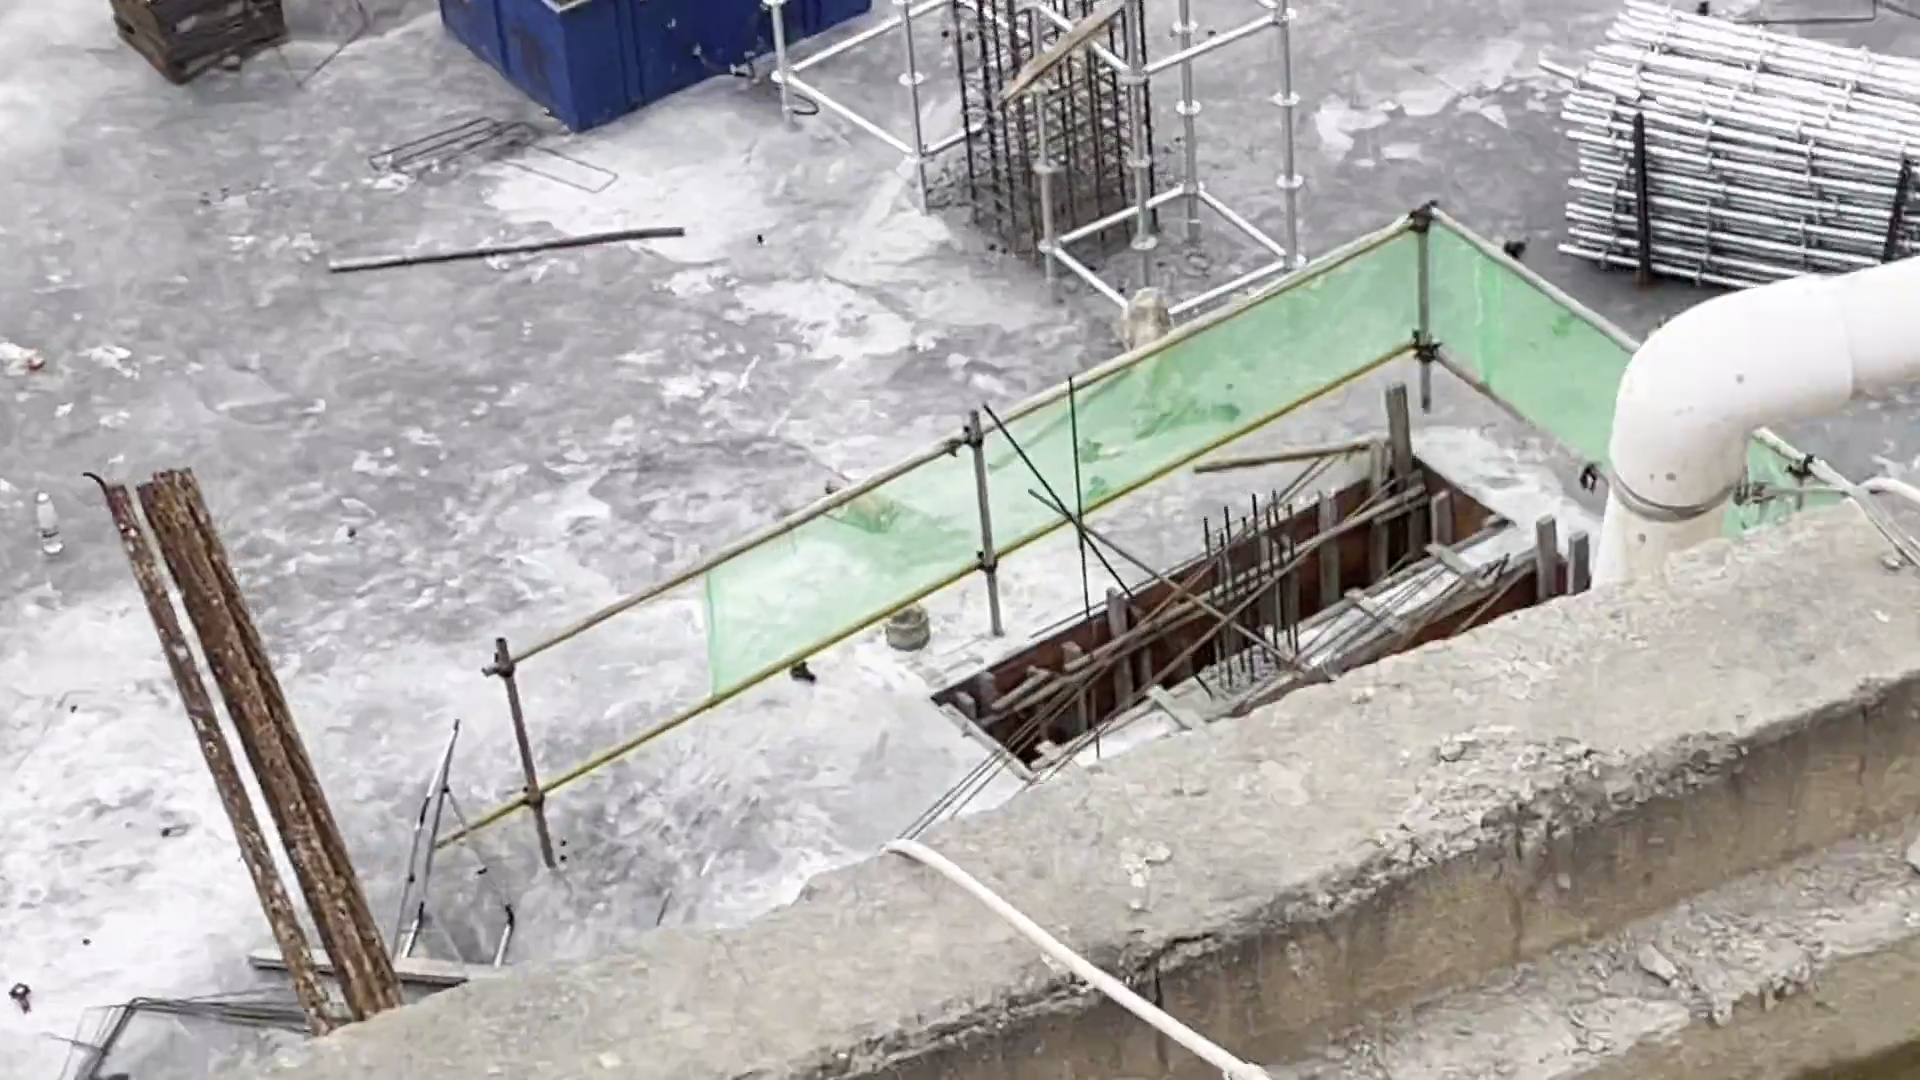hopper: (431, 1, 881, 131)
scaffold: (1549, 1, 1915, 289)
